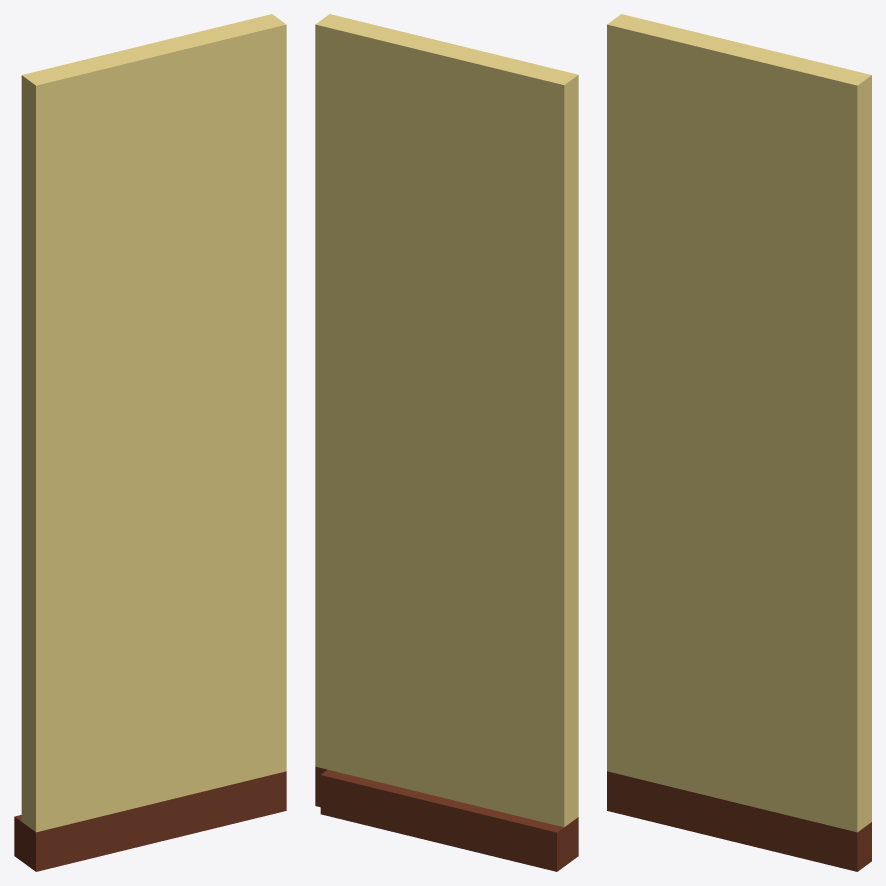
File: wall-left.fbx
3 renders of one model, left to right at view 1: azimuth 30°, elevation 25°; view 2: azimuth 150°, elevation 25°; view 3: azimuth 330°, elevation 25°, orthographic.
Visible parts, largest first — view 1: Wall.003; view 2: Wall.003; view 3: Wall.003.
Boxes of the visible parts, x1,y1,x2,y2 form: Wall.003: (14,14,286,871); Wall.003: (315,14,578,871); Wall.003: (607,14,871,871).
Size of the model in its own units: 200 by 600 by 30.
